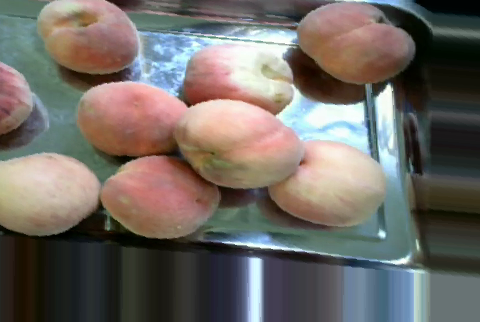Peach: (179, 98, 301, 190), (268, 139, 384, 225), (295, 2, 415, 84), (104, 155, 217, 237), (183, 39, 294, 119), (1, 153, 100, 235), (78, 81, 183, 158), (37, 0, 141, 74), (0, 59, 34, 137)
